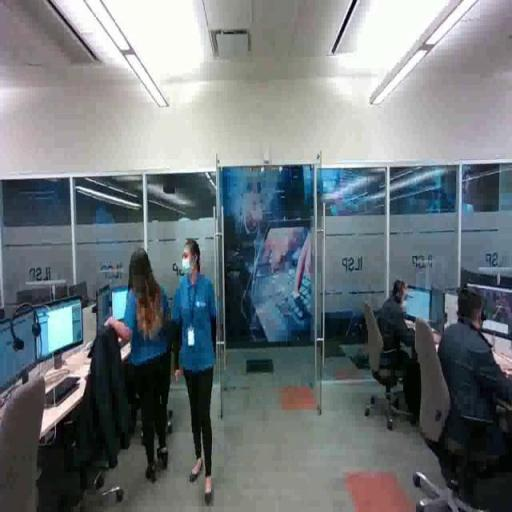person: (429, 287, 512, 499), (103, 241, 174, 487), (174, 239, 222, 505), (373, 276, 439, 403)
